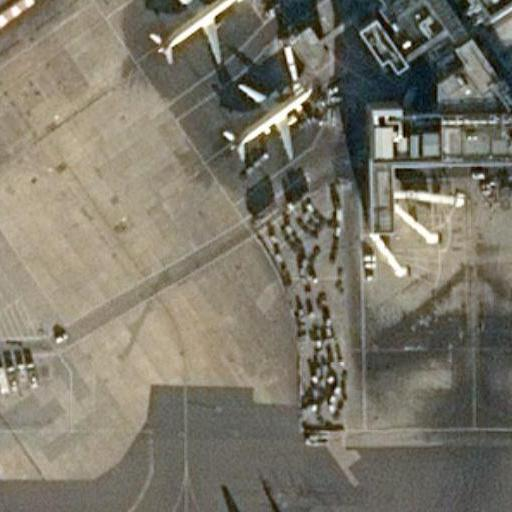Aircraft: (218, 74, 316, 164), (143, 0, 244, 67)
